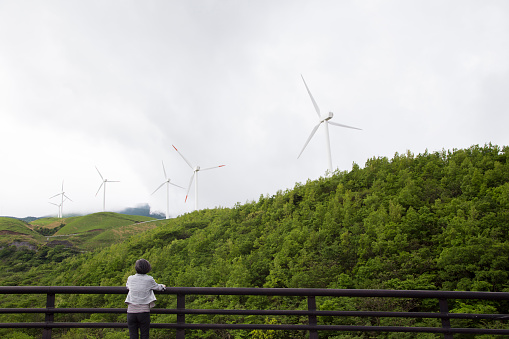em pe: (124, 257, 159, 339)
